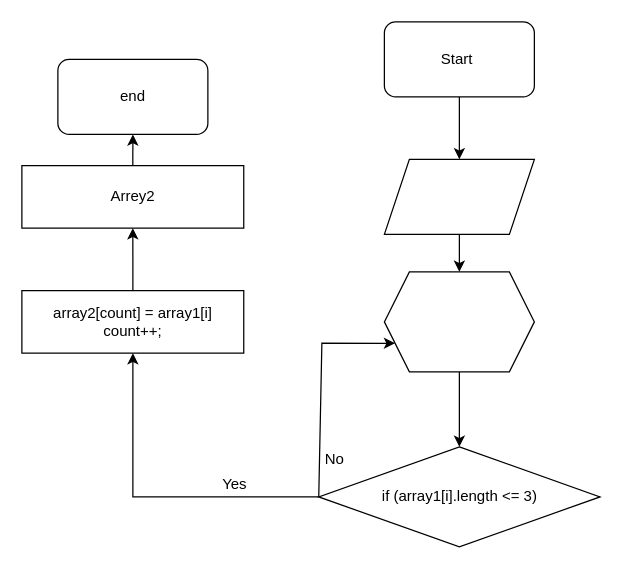
Some shapes in this 623 by 569 pixel diagram are drawn without their labels. Here are the shapes that lost their labels. From the top down, the centre of each, then its label:
pixel 458 196: Array 1 length
pixel 458 321: for (int i = 0; i < array1.length; i++)
